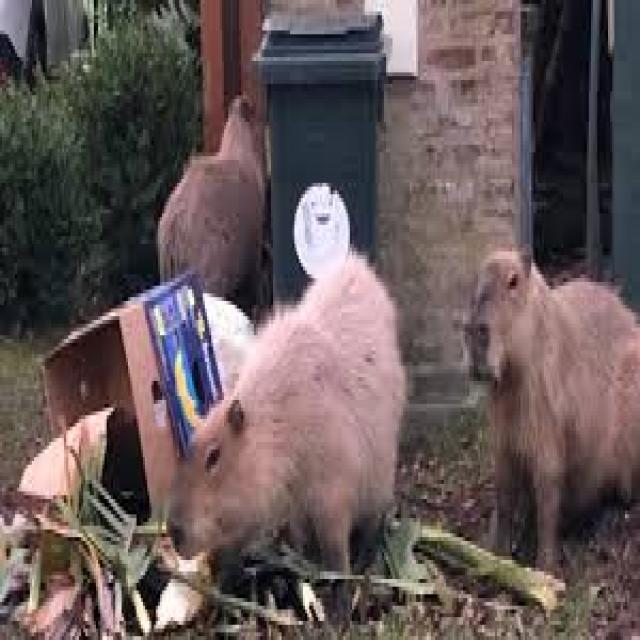capy: (171, 256, 405, 584), (461, 243, 640, 580), (157, 93, 263, 298)
